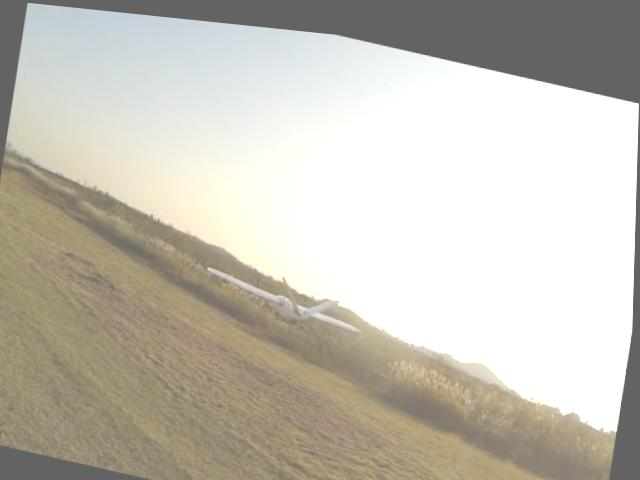uav: (189, 240, 376, 357)
